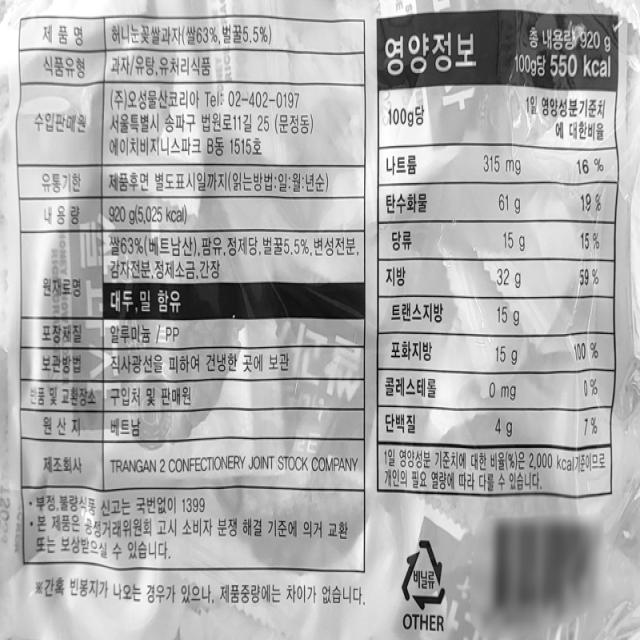Nutrition Label: (367, 1, 629, 507)
